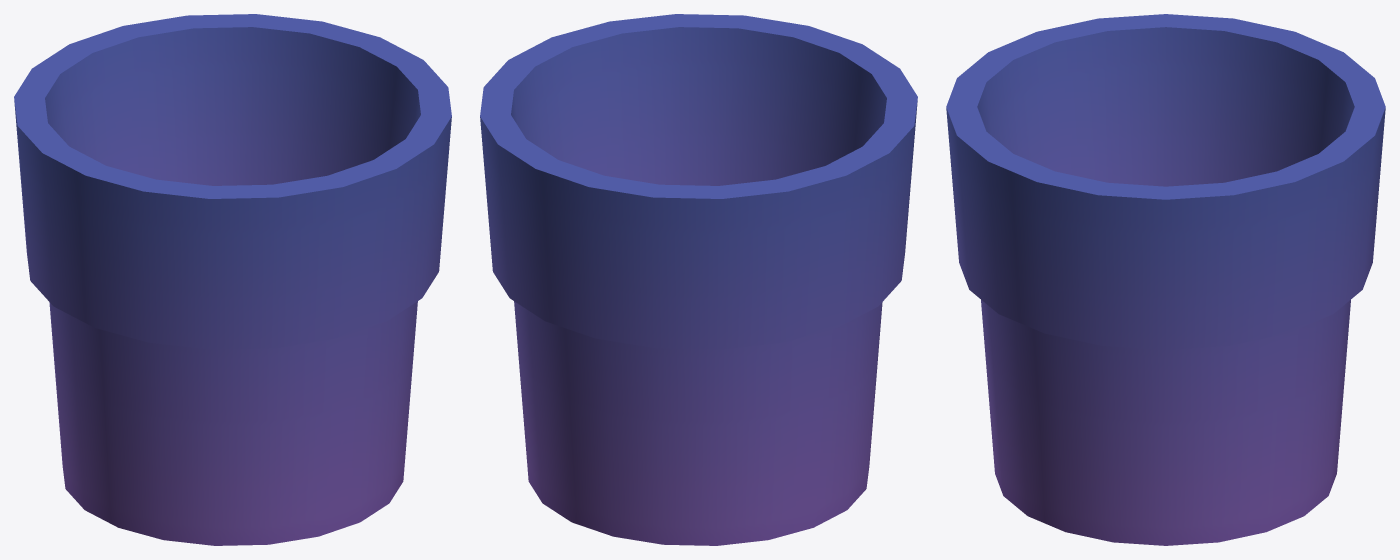
File: PlantPot_26.fbx
The picture shows the model from 3 angles, left to right: view 1: azimuth 30°, elevation 25°; view 2: azimuth 150°, elevation 25°; view 3: azimuth 270°, elevation 25°; orthographic projection.
Parts seen in each view (by area): view 1: PlantPot_26; view 2: PlantPot_26; view 3: PlantPot_26.
Boxes of the visible parts, box(x1,y1,x2,y2) form: PlantPot_26: box(14, 14, 451, 545); PlantPot_26: box(480, 14, 917, 545); PlantPot_26: box(946, 14, 1385, 545).
Size of the model in its own units: 21.08 by 19.41 by 21.08.
